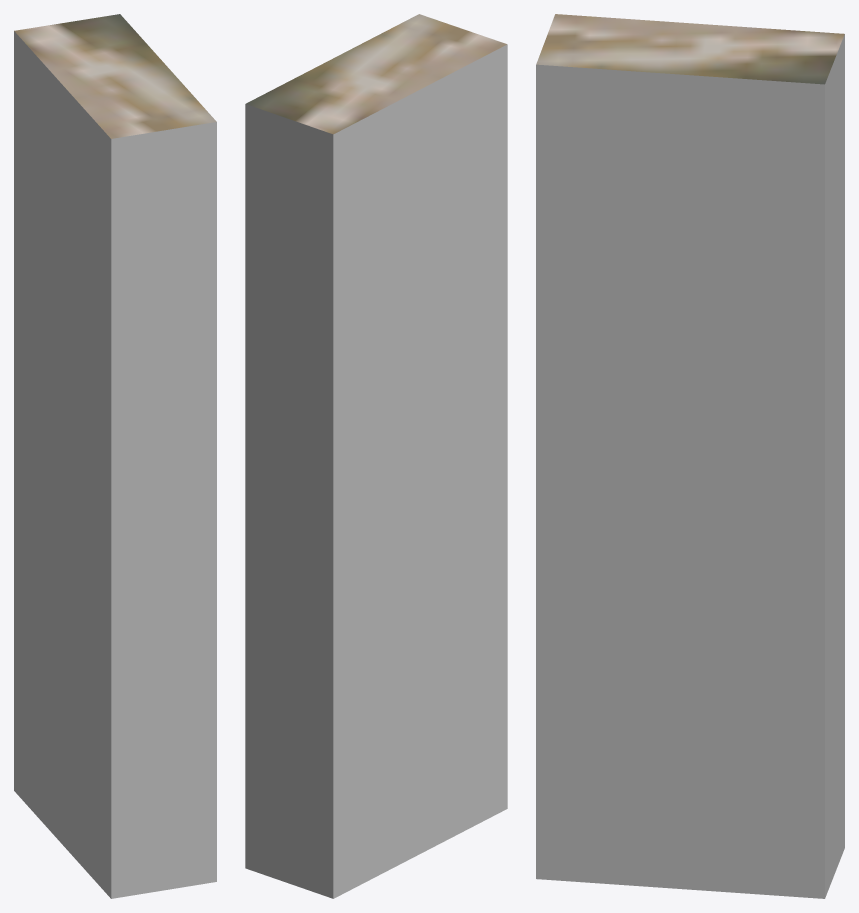
Rendered from DEBW_0010007THY6.gltf.
3 renders of one model, left to right at view 1: azimuth 30°, elevation 25°; view 2: azimuth 150°, elevation 25°; view 3: azimuth 270°, elevation 25°, orthographic. The views are drawn at different scales.
Parts seen in each view (by area): view 1: Z_UP; view 2: Z_UP; view 3: Z_UP.
Boxes of the visible parts, x1,y1,x2,y2 form: Z_UP: (14,14,216,898); Z_UP: (245,14,507,898); Z_UP: (536,14,844,898).
Size of the model in its own units: 2.27 by 12.23 by 4.2.
Materials: 2 (1 with a texture image).
